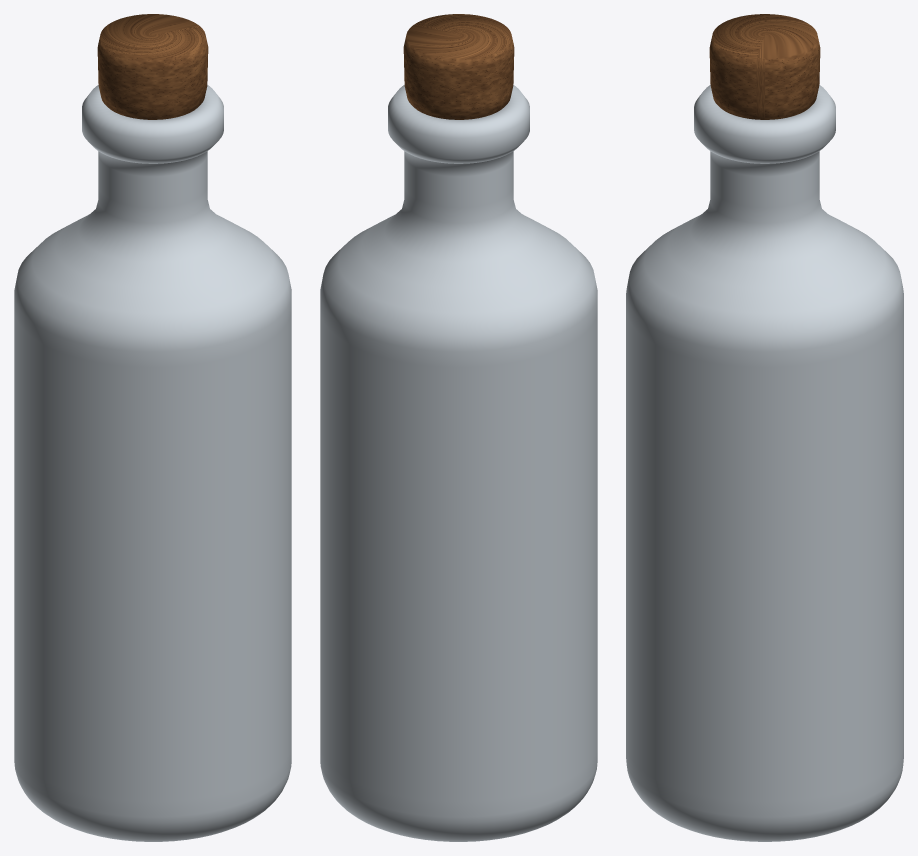
Rendered from bottle_flask.glb.
3 views of the same model, side by side, from view 1: azimuth 30°, elevation 25°; view 2: azimuth 150°, elevation 25°; view 3: azimuth 270°, elevation 25° (orthographic).
Visible parts, largest first — view 1: Glass, Cork; view 2: Glass, Cork; view 3: Glass, Cork.
Boxes of the visible parts, x1=… form: Glass: x1=14, y1=85, x2=291, y2=841; Cork: x1=97, y1=14, x2=208, y2=119; Glass: x1=320, y1=85, x2=597, y2=841; Cork: x1=403, y1=14, x2=514, y2=119; Glass: x1=626, y1=85, x2=903, y2=841; Cork: x1=709, y1=14, x2=820, y2=119.
Bounding box in the file's own units: 0.84 × 2.55 × 0.84.
2 materials, 1 textured.
